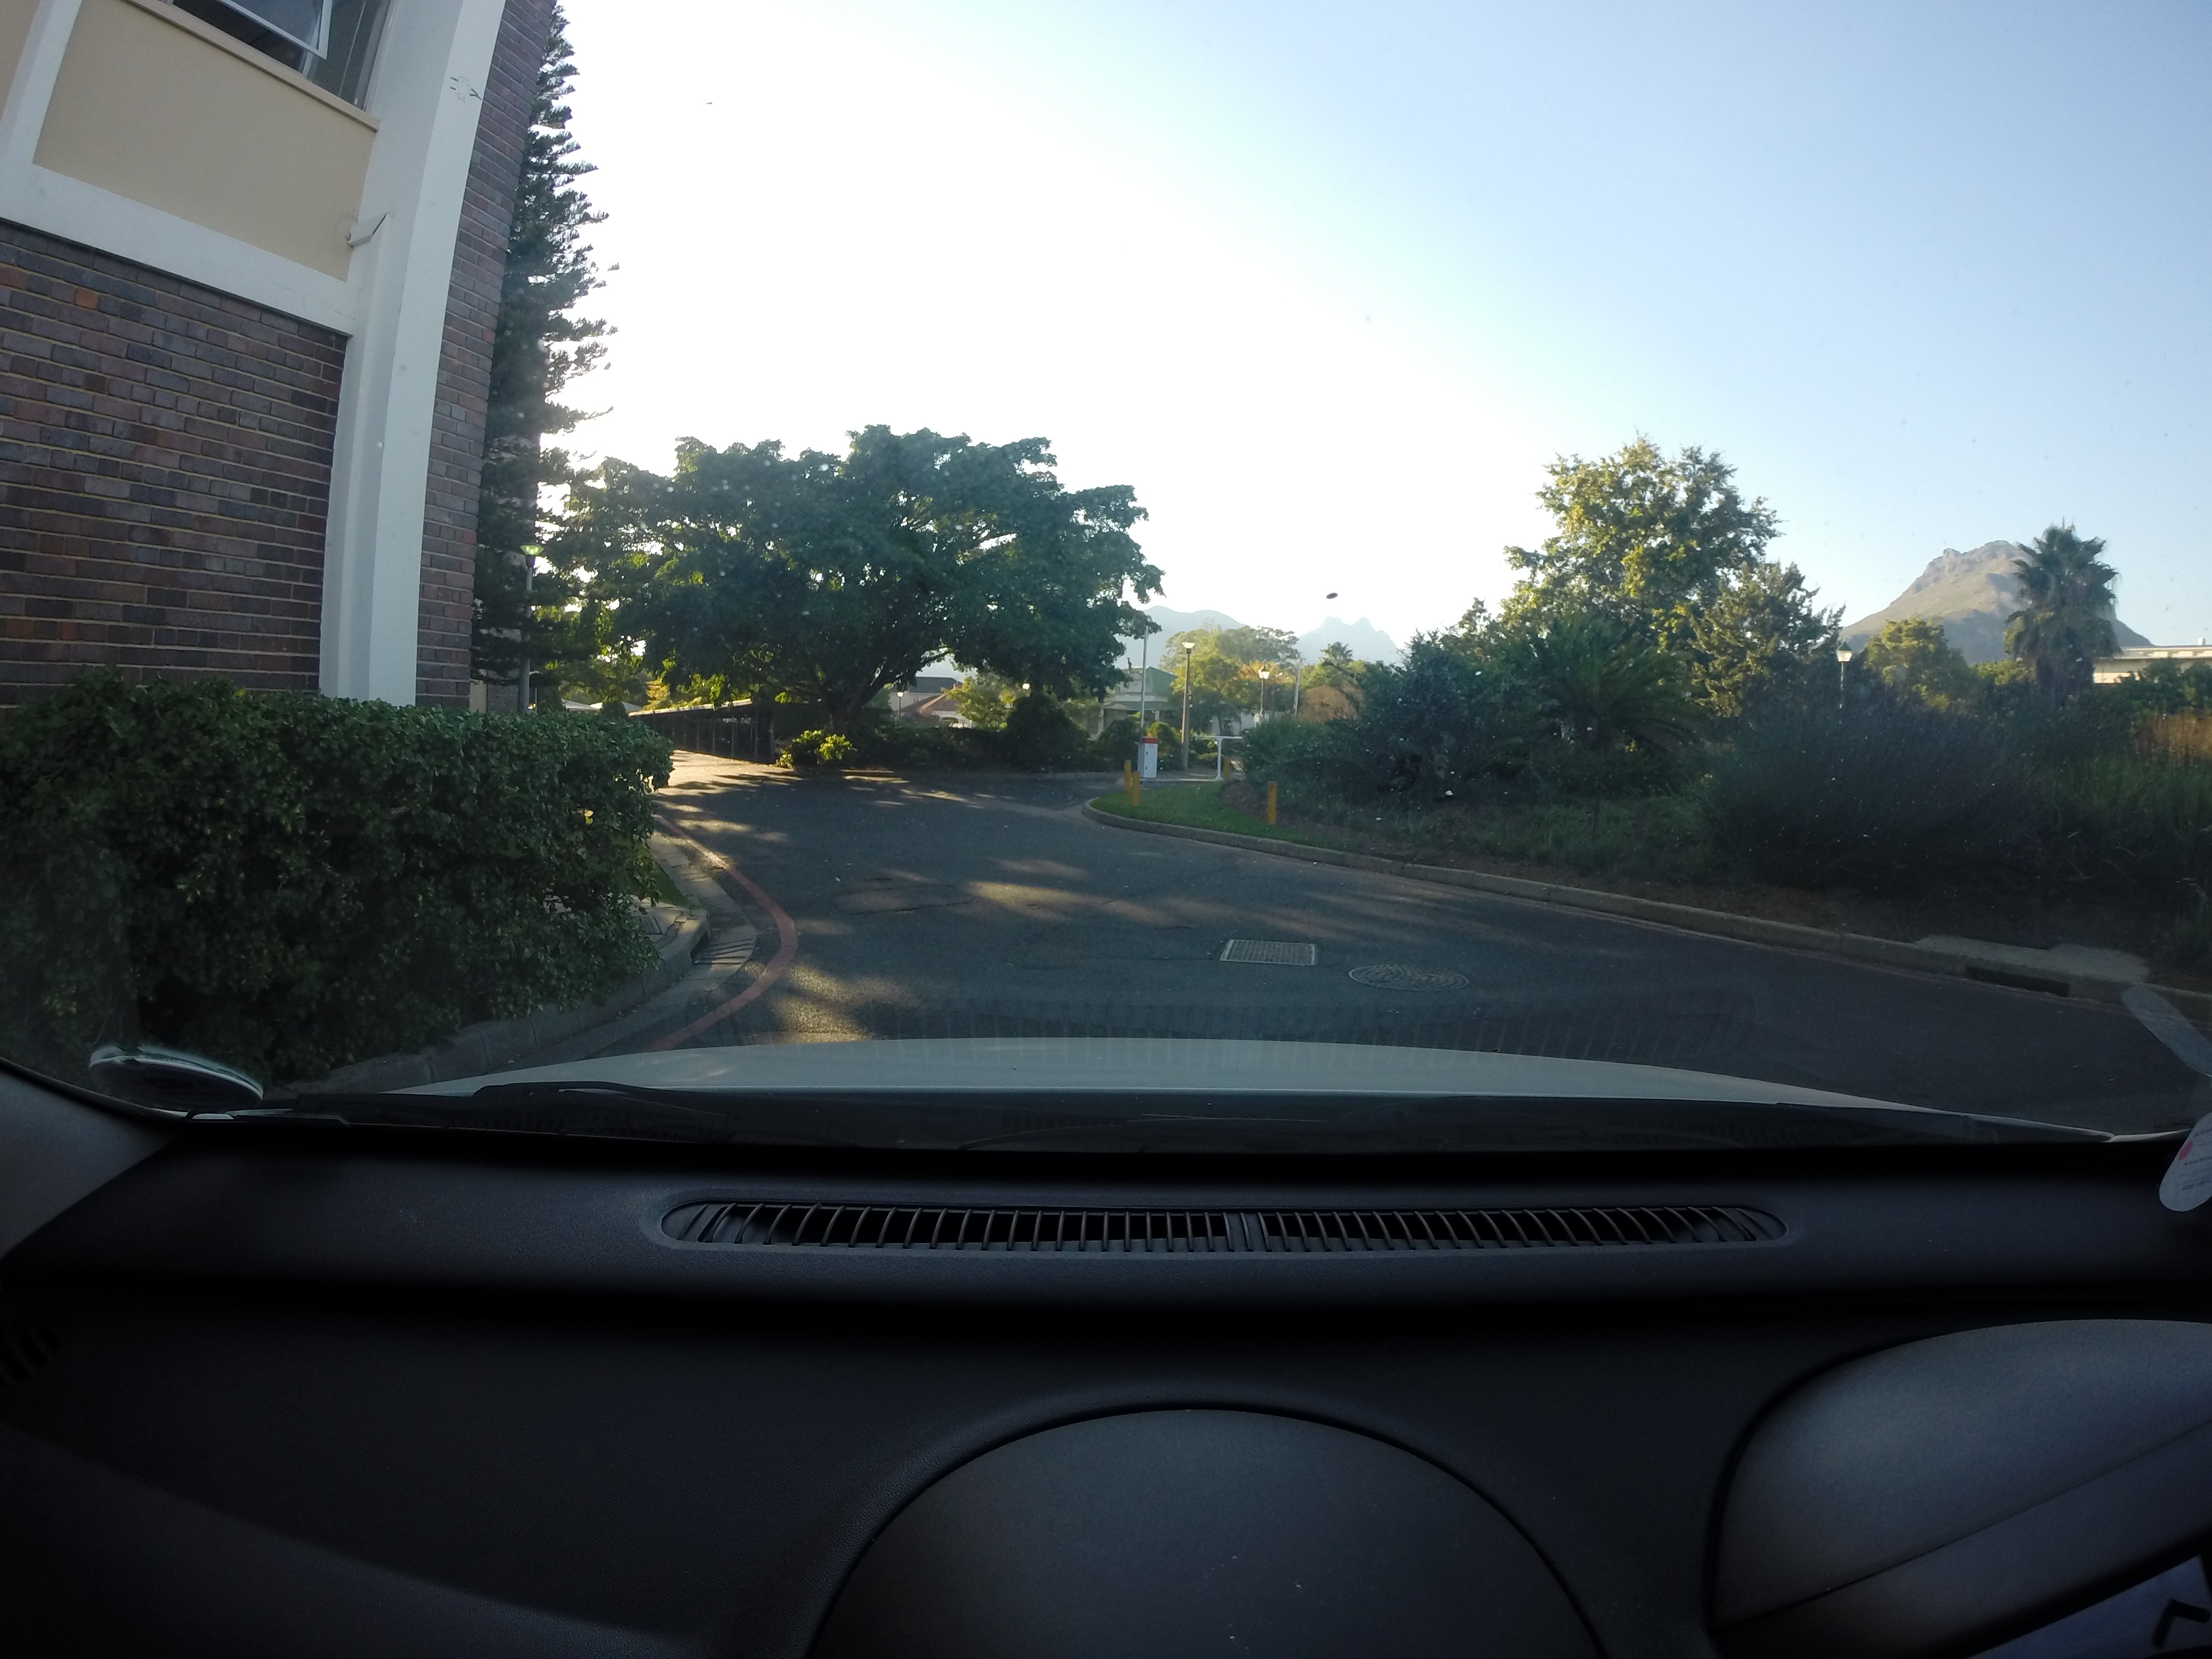pothole: (888, 908, 954, 913)
